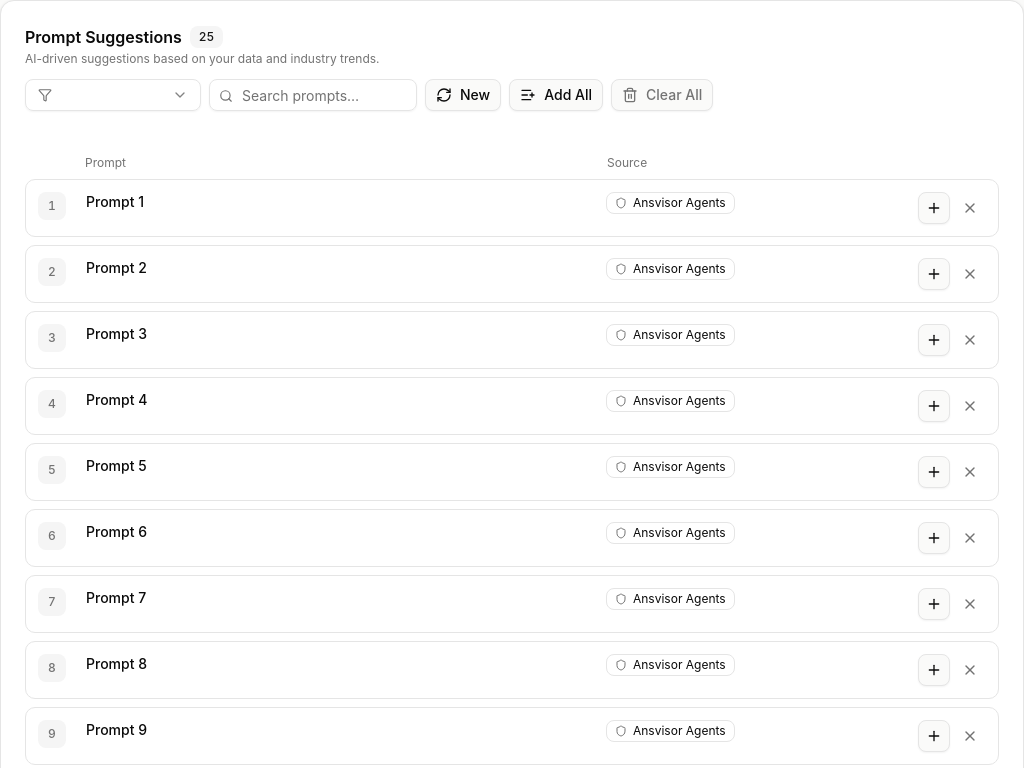
Scenario: SuggestionsCard — Add All › keeps the rest and says how to make room when the plan limit is reached
Click the button "Add All".
click(556, 95)  # box x1=509 y1=79 x2=603 y2=111
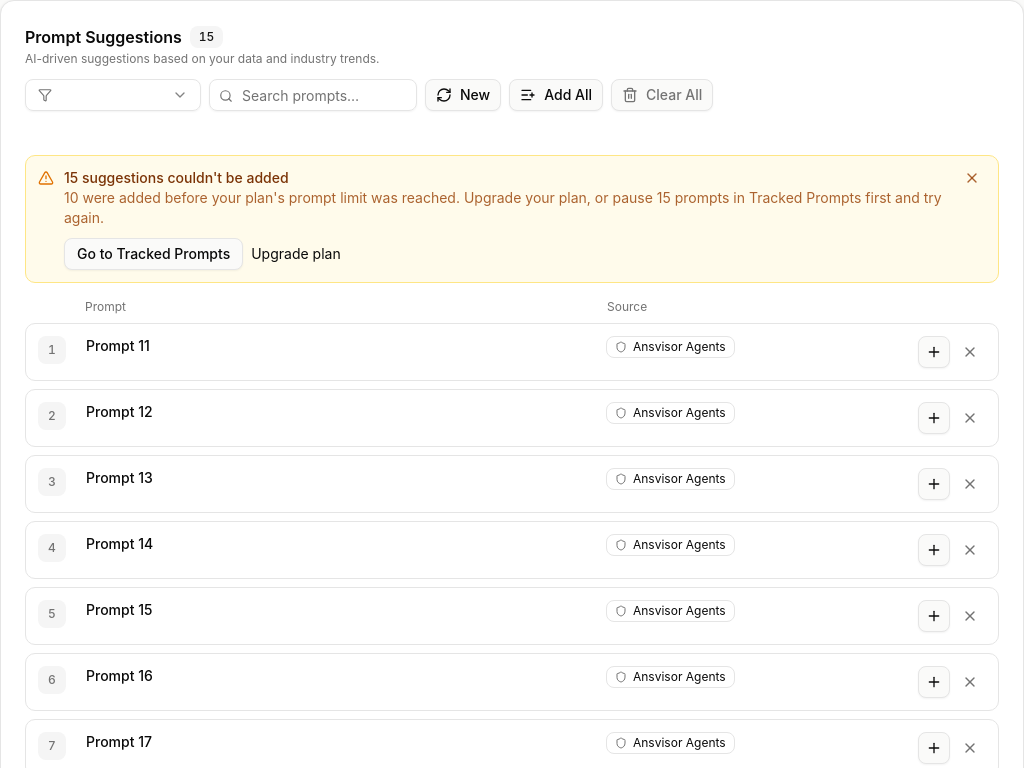
Check: the number of list items is 15
Check: the message shows "15 suggestions couldn't be added", box x1=64 y1=169 x2=289 y2=186
Check: the message shows "10 were added before your plan's prompt limit was reached.", box x1=64 y1=189 x2=942 y2=226
